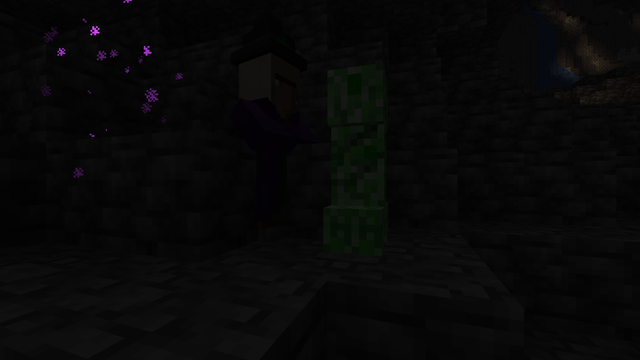creepers: (320, 50, 393, 254)
sorcieres: (230, 42, 305, 244)
